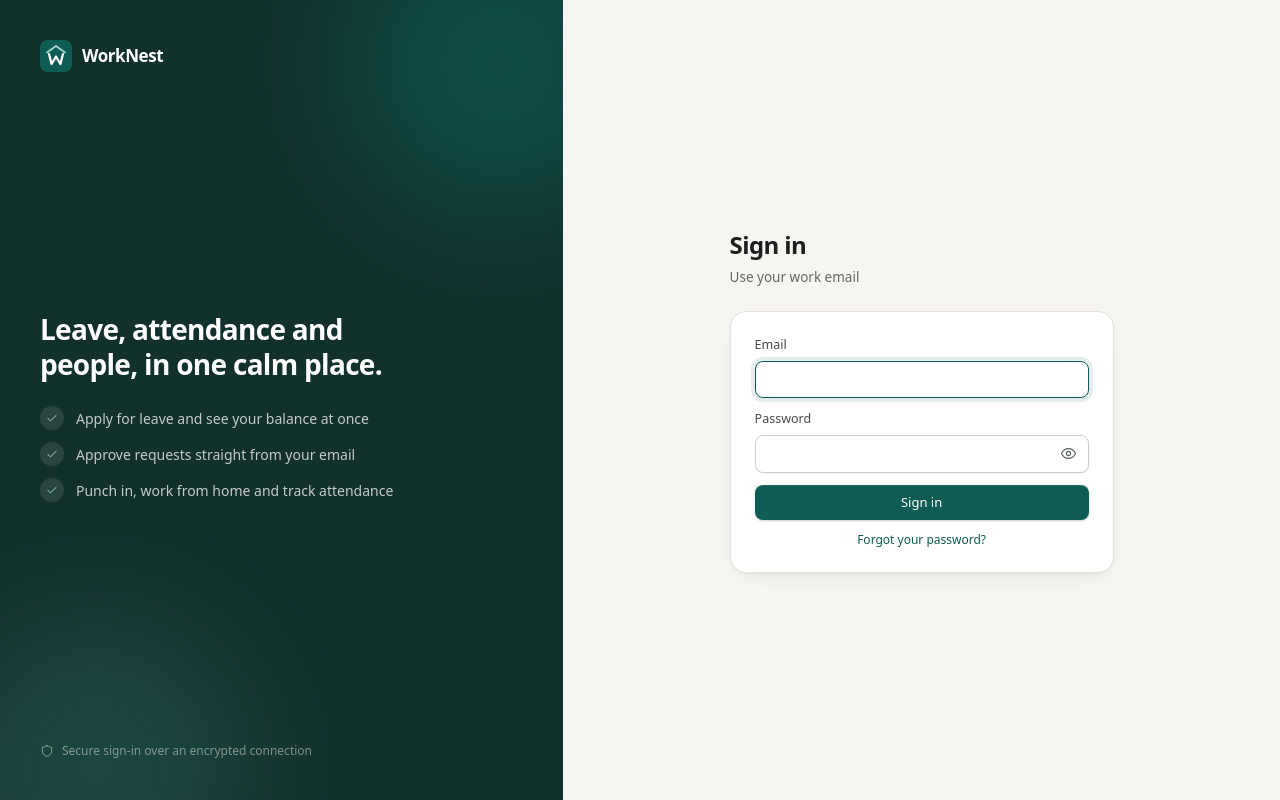
Test case: login page › shows the server message on failure
This screenshot has width=1280, height=800.
Type "a@b.co" into the field labelled "Email". click: (922,380)
box: [755, 361, 1089, 398]
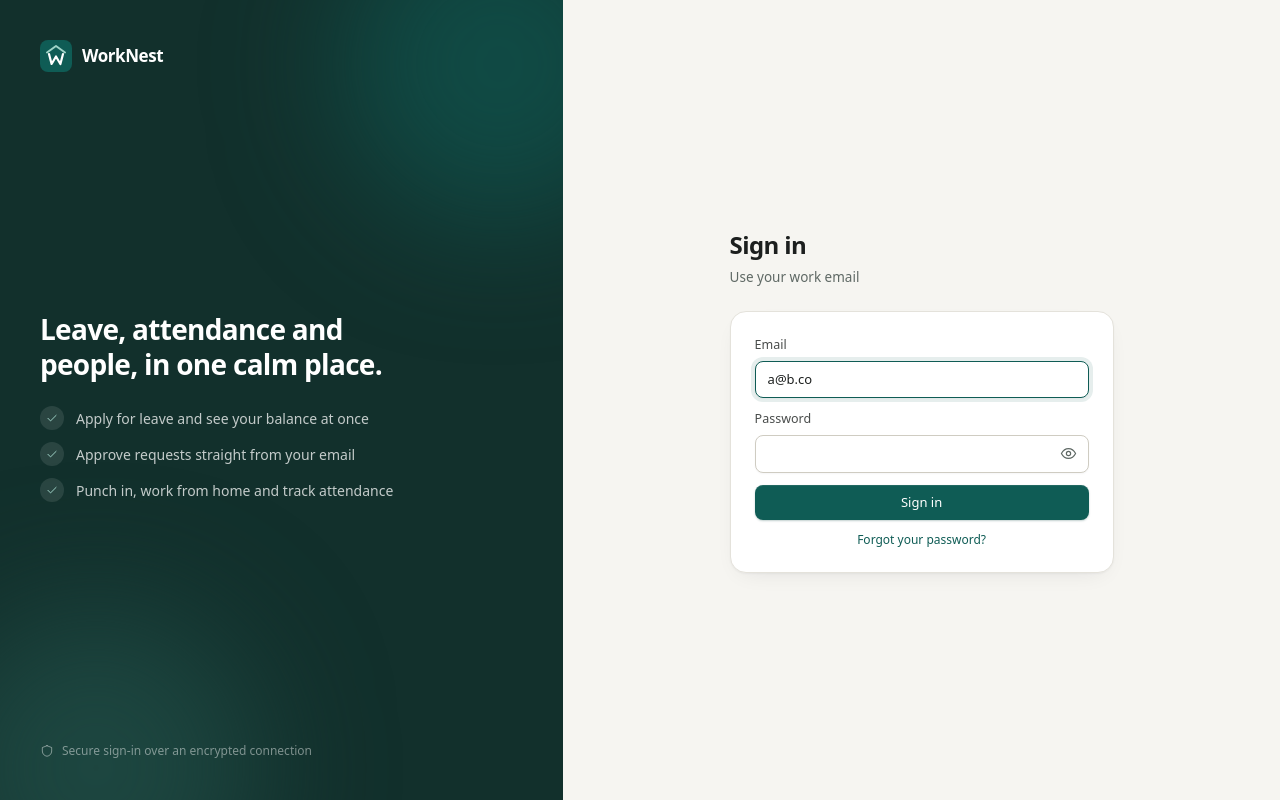
Type "wrong" into the password field labelled "Password". click: (922,454)
box: [755, 435, 1089, 473]
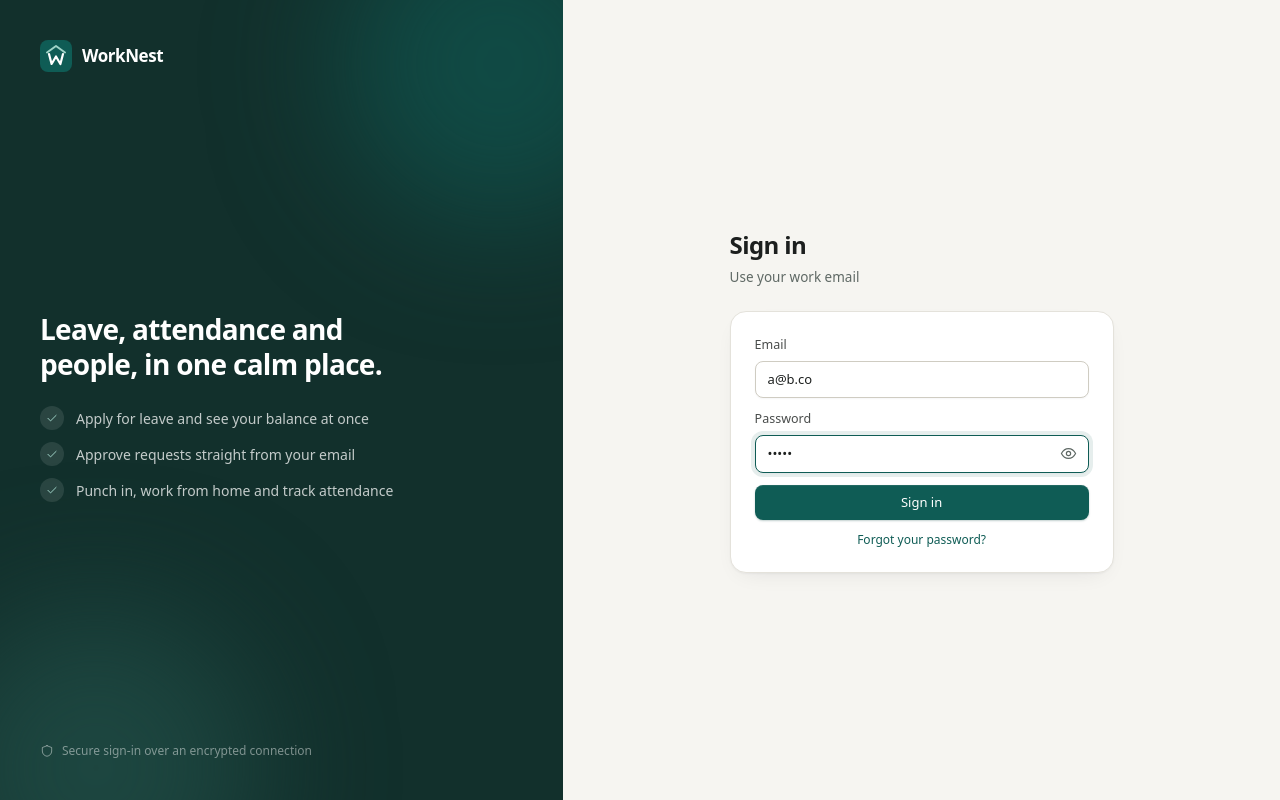
Click the button "Sign in". click: (922,502)
box: [755, 485, 1089, 520]
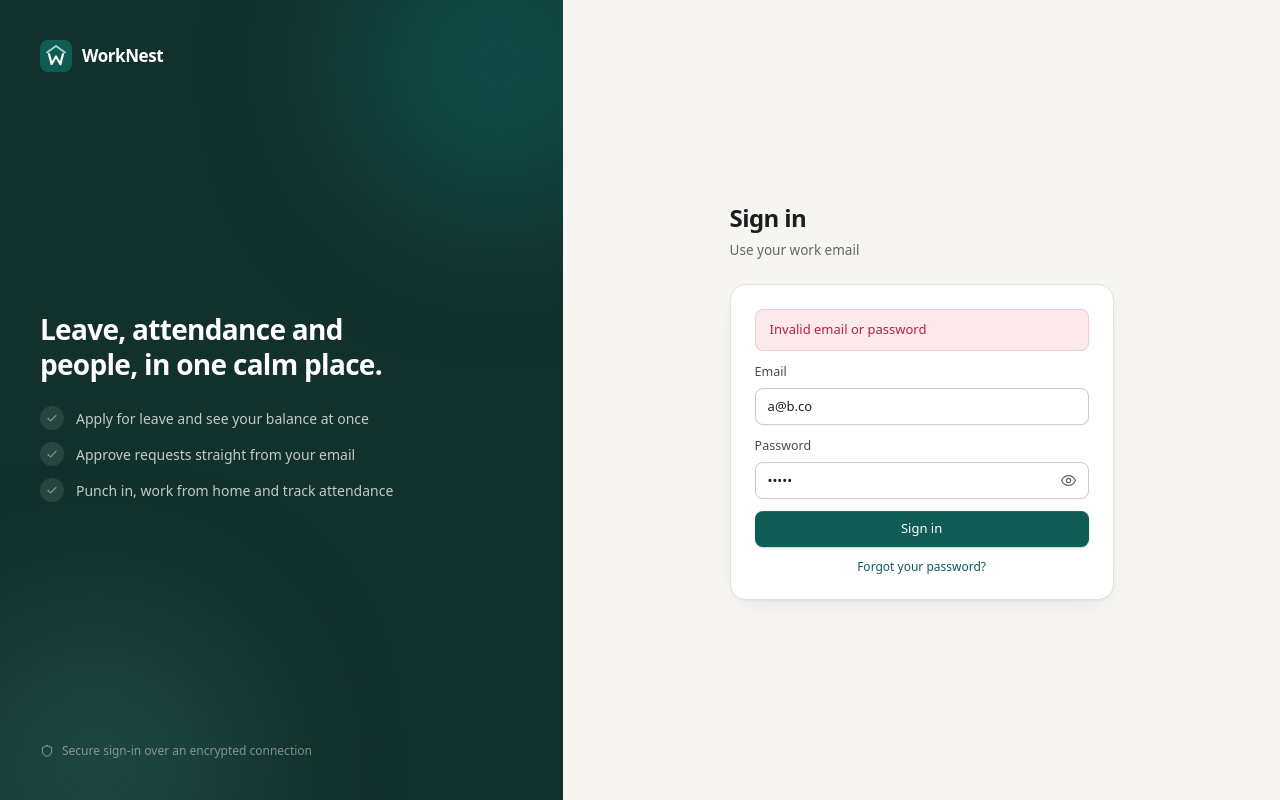
Expected: the message reads "Invalid email or password", [770, 320, 926, 338]
